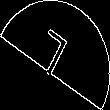L_SW: (34, 25, 76, 85)
